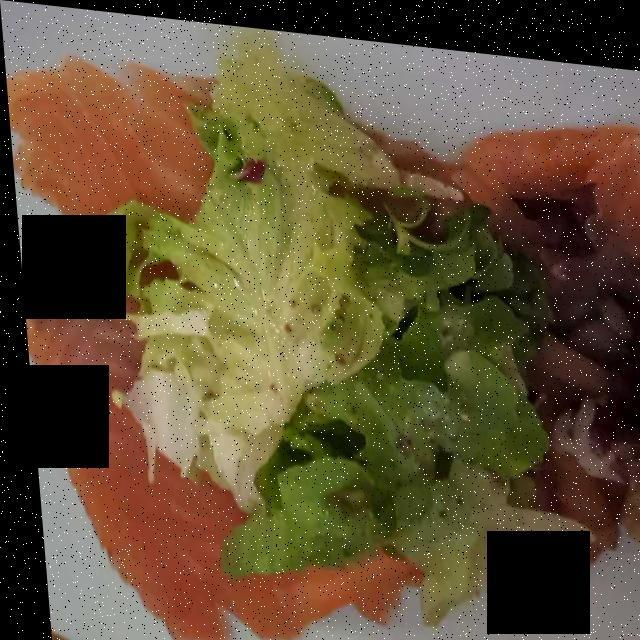salad: (82, 41, 557, 603)
salmon: (27, 57, 640, 626)
